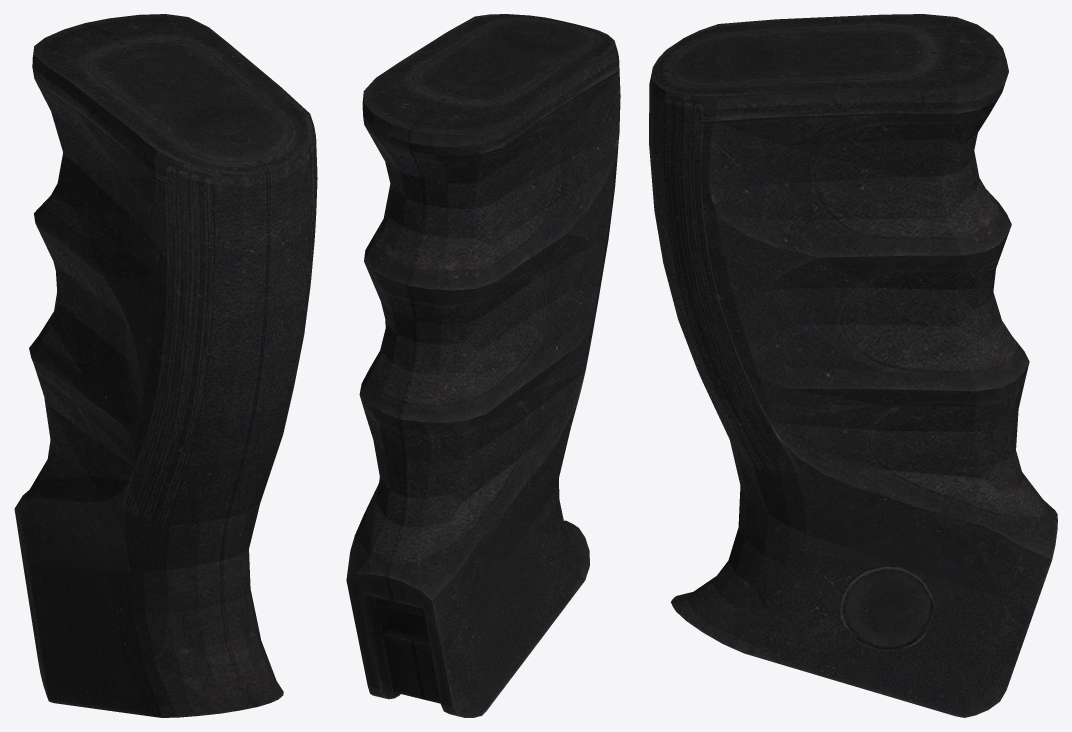
3 views of the same model, side by side, from view 1: azimuth 30°, elevation 25°; view 2: azimuth 150°, elevation 25°; view 3: azimuth 270°, elevation 25° (orthographic). The views are drawn at different scales.
Parts seen in each view (by area): view 1: TW_5bbde41ed4351e003562b038_PZ_Import; view 2: TW_5bbde41ed4351e003562b038_PZ_Import; view 3: TW_5bbde41ed4351e003562b038_PZ_Import.
Boxes of the visible parts, x1,y1,x2,y2 form: TW_5bbde41ed4351e003562b038_PZ_Import: [14, 14, 317, 717]; TW_5bbde41ed4351e003562b038_PZ_Import: [346, 14, 620, 717]; TW_5bbde41ed4351e003562b038_PZ_Import: [649, 14, 1057, 717].
Bounding box in the file's own units: 0.0164 × 0.0367 × 0.0632.
Materials: 1 (1 with a texture image).
